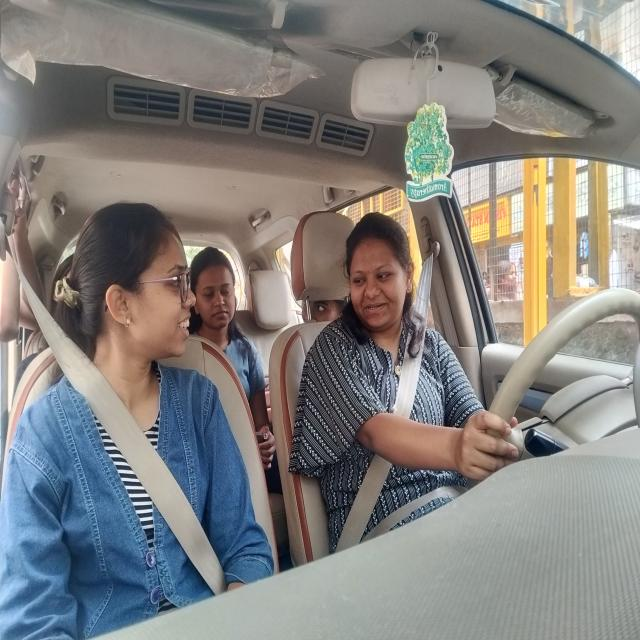LeftRight: (338, 205, 424, 338)
person: (83, 198, 207, 360), (193, 250, 241, 334)
talking: (176, 306, 198, 338), (363, 301, 388, 311)
